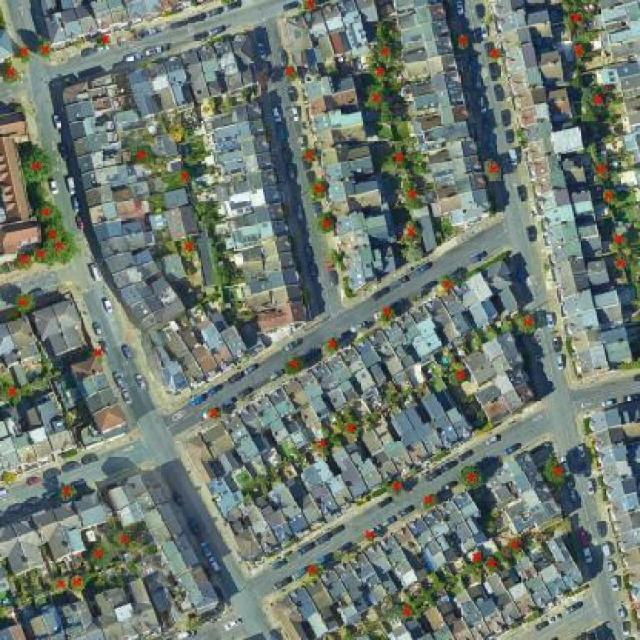tree: (19, 143, 52, 186), (386, 149, 425, 174), (52, 228, 76, 266), (543, 457, 569, 488), (563, 0, 589, 28), (585, 86, 610, 115), (399, 182, 426, 208), (366, 43, 400, 63), (458, 466, 487, 489), (34, 200, 60, 223), (130, 143, 156, 166), (178, 236, 201, 262), (88, 542, 111, 566), (374, 21, 401, 41), (572, 36, 590, 65), (592, 156, 612, 181), (39, 223, 65, 242), (283, 354, 306, 375), (514, 312, 537, 333), (315, 210, 334, 235), (14, 292, 35, 314), (365, 86, 385, 109), (403, 222, 423, 245), (0, 65, 22, 85), (449, 368, 471, 388), (309, 178, 328, 201), (401, 245, 425, 263), (33, 240, 50, 265), (368, 63, 389, 83), (0, 382, 20, 402), (112, 529, 132, 549), (395, 602, 417, 619), (304, 562, 325, 579), (175, 168, 196, 185), (37, 36, 52, 59), (485, 159, 502, 179), (16, 251, 33, 271), (58, 485, 77, 502), (386, 479, 405, 496), (312, 436, 332, 452), (52, 575, 69, 593), (322, 336, 340, 353), (379, 305, 396, 323), (322, 247, 340, 264), (609, 232, 626, 249), (344, 418, 361, 435), (484, 557, 501, 574), (600, 189, 618, 205), (90, 345, 105, 364), (302, 147, 318, 164), (362, 528, 379, 544), (455, 33, 471, 50), (71, 573, 85, 592), (1, 469, 16, 486), (421, 494, 438, 509), (470, 550, 485, 567), (516, 128, 529, 147), (281, 65, 297, 80), (17, 45, 31, 62), (614, 253, 628, 270), (204, 406, 221, 420), (438, 275, 453, 290), (507, 538, 522, 553), (98, 33, 112, 49), (301, 0, 318, 11), (482, 12, 495, 25), (40, 362, 51, 376), (488, 49, 501, 60)
